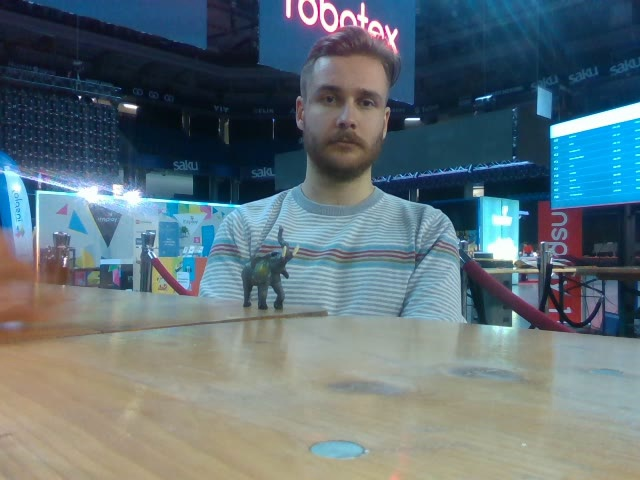toy: (240, 226, 300, 310)
